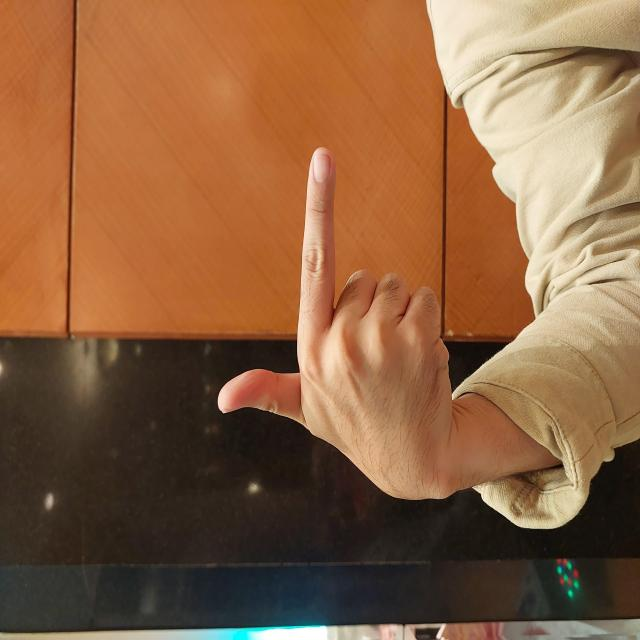G: (137, 216, 496, 455)
